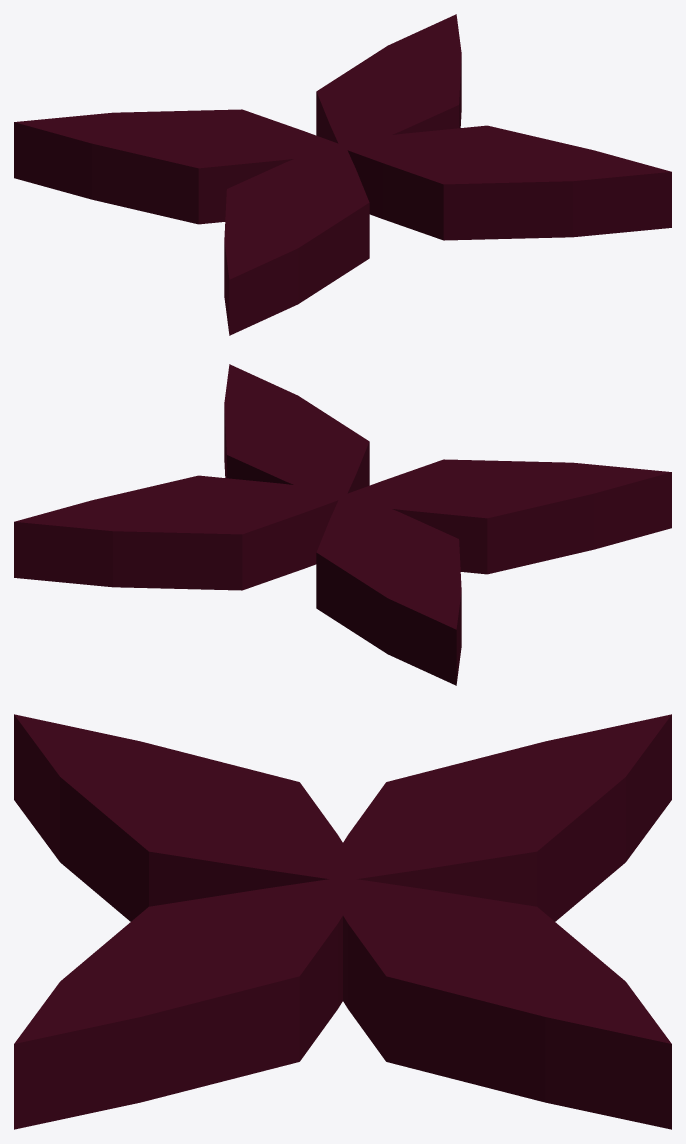
Rendered from sym_pointy.fbx.
3 renders of one model, top to bottom at view 1: azimuth 30°, elevation 25°; view 2: azimuth 150°, elevation 25°; view 3: azimuth 270°, elevation 25°, orthographic. The views are drawn at different scales.
Visible parts, largest first — view 1: Points; view 2: Points; view 3: Points.
Part boxes in pixels (x1,y1,x2,y2): Points: (14,14,671,335); Points: (14,364,671,685); Points: (14,714,671,1129).
Bounding box in the file's own units: 431 × 52.22 × 364.
